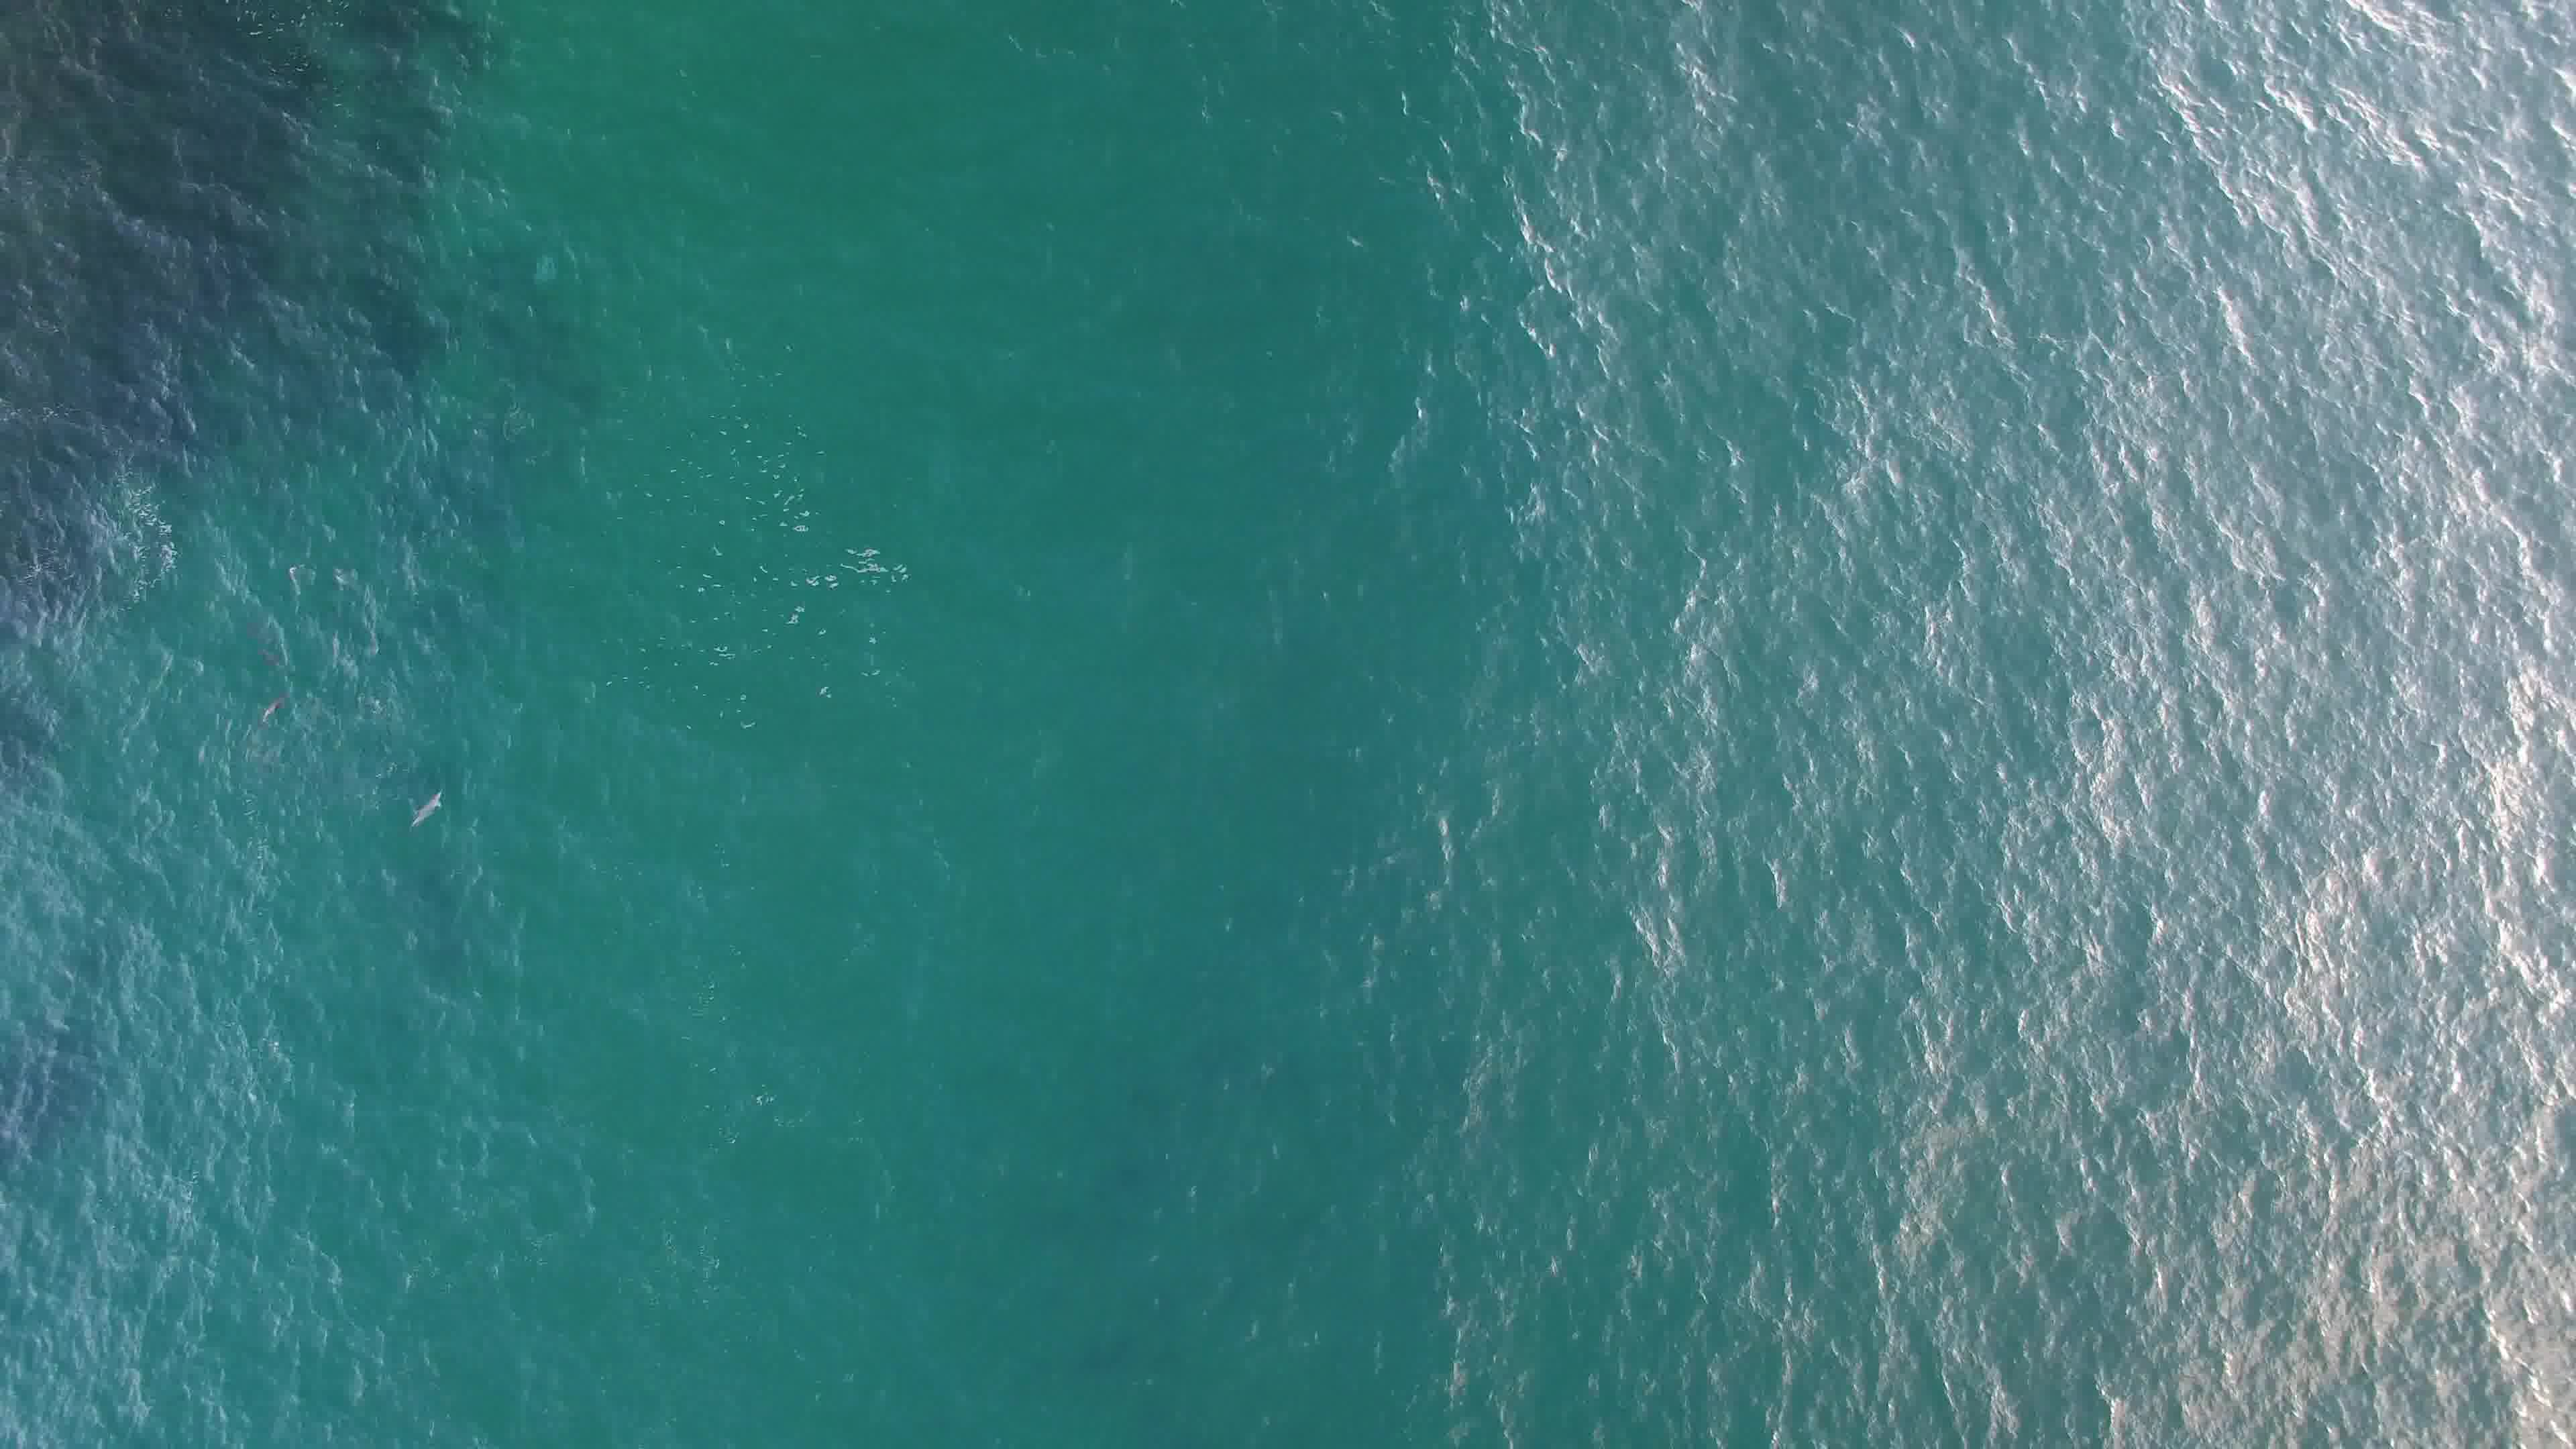dolphin: (384, 771, 460, 833), (249, 686, 297, 725)
